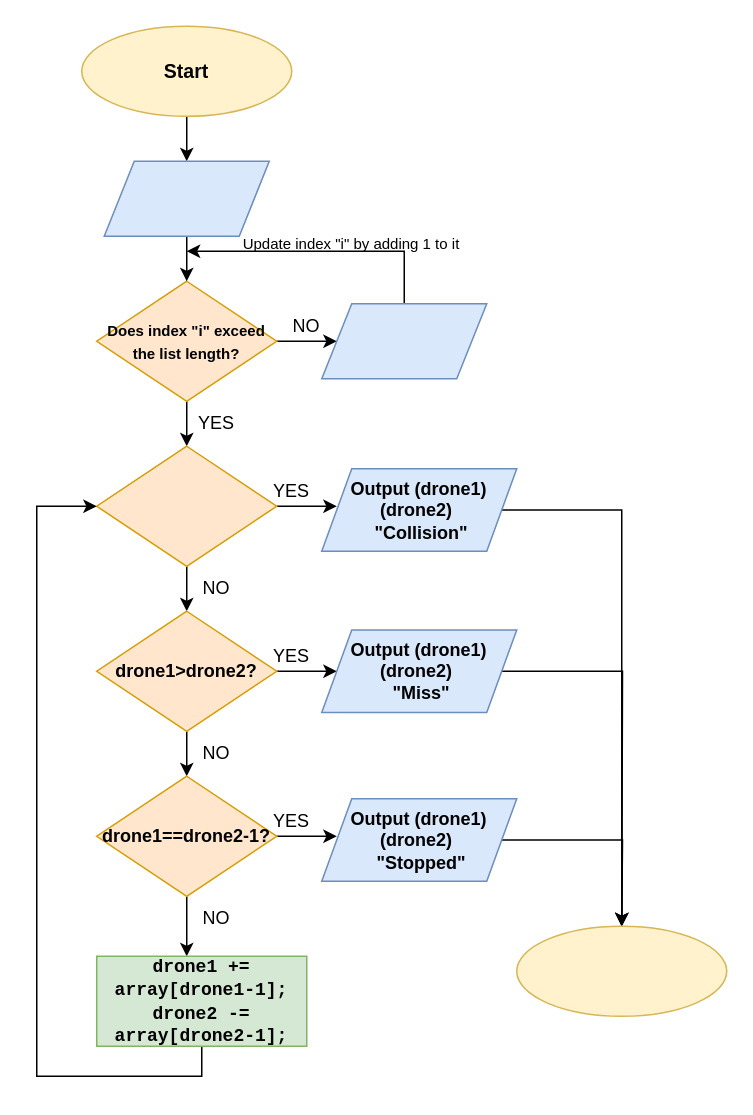
This 753x1115 diagram has some shape labels left out. Each missing label, with the centre of its shape:
"drone1==drone2?" belongs at point (186, 505).
"Finish" belongs at point (621, 970).
"Input array[i]" belongs at point (403, 340).
"Input N" belongs at point (186, 198).
